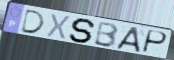A: (115, 27, 142, 54)
B: (92, 21, 120, 49)
D: (19, 9, 47, 35)
P: (141, 29, 169, 55)
S: (68, 18, 98, 44)
X: (45, 13, 72, 42)
